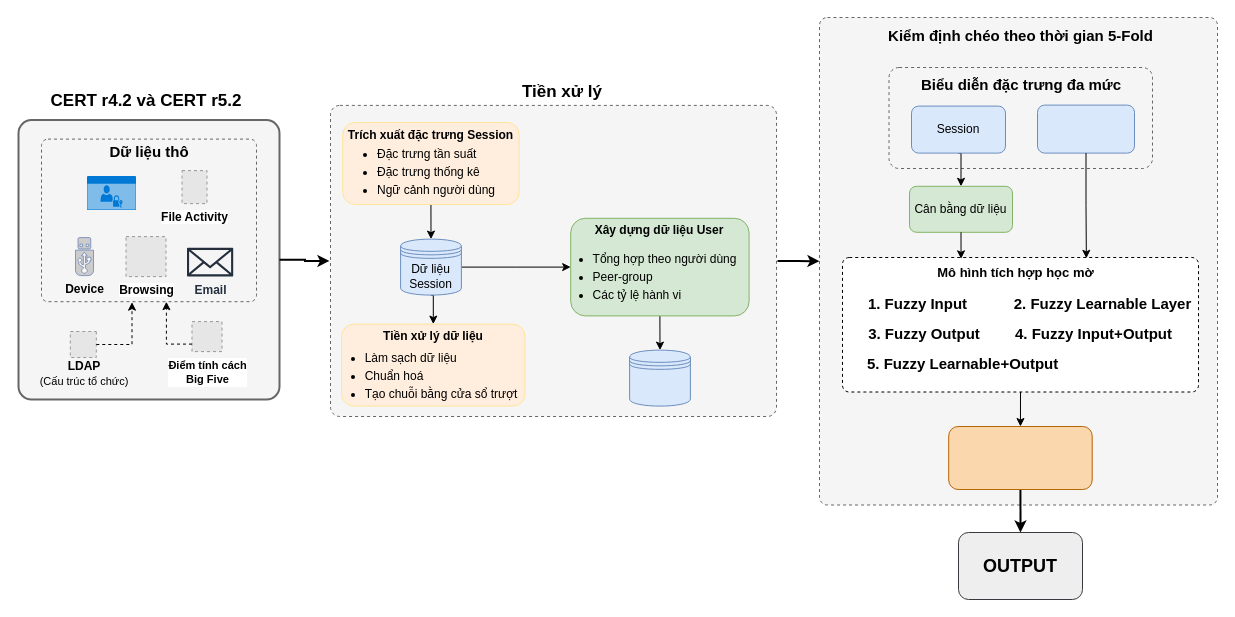
This 1235x617 diagram has some shape labels left out. Grey dashed boxes stand in for pictures. Here are the shapes that lost their labels. From the top down, the centre of each, then its label:
At pixel 1085 128: "User".
At pixel 111 193: "Login/Logoff".
At pixel 659 377: "Dữ liệu User".
At pixel 1020 458: "Fusion + Meta Learner".
